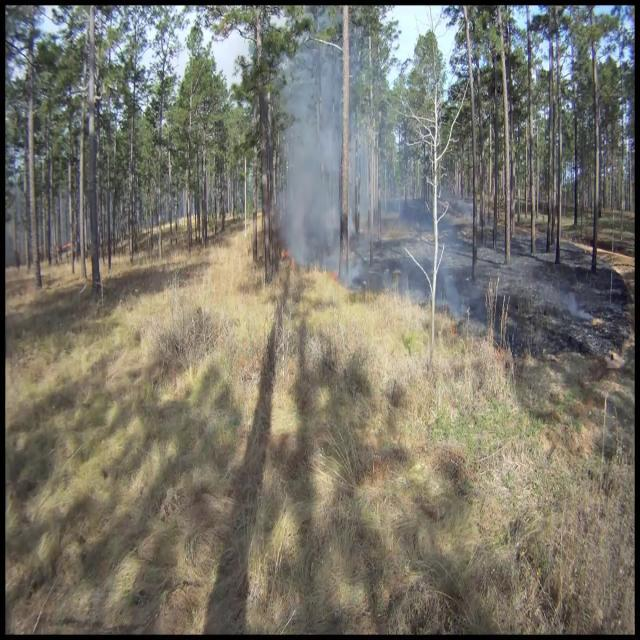Smoke: (272, 35, 348, 281)
